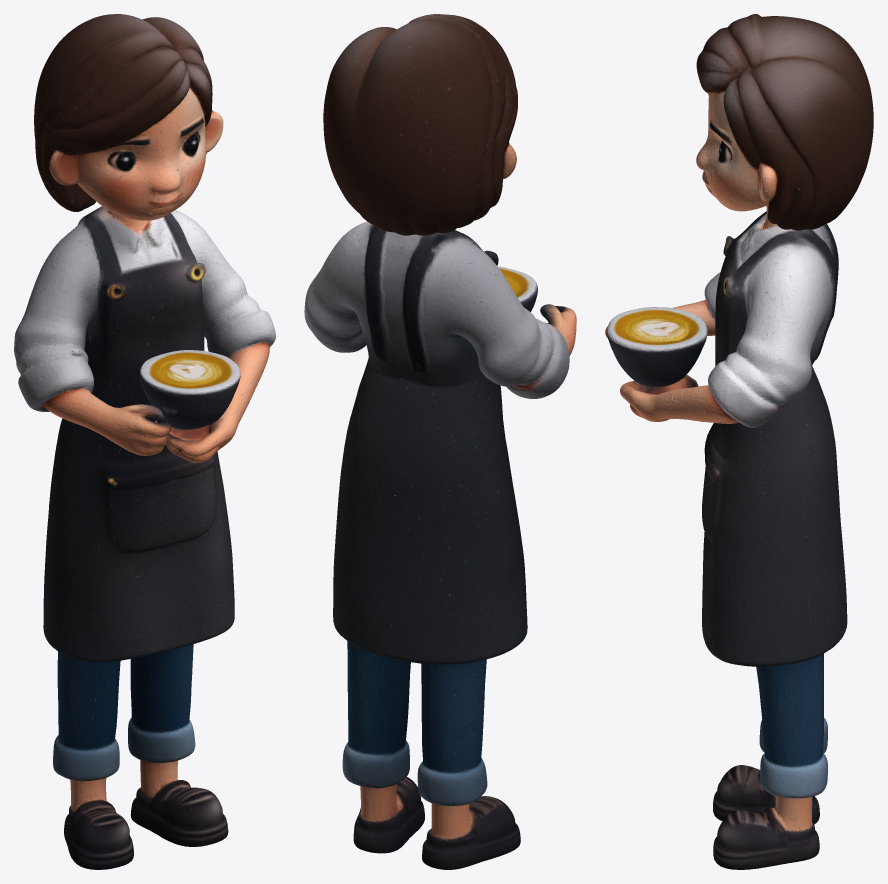
The model's file is fig_cafe_barista_girl_realistic.glb.
3 renders of one model, left to right at view 1: azimuth 30°, elevation 25°; view 2: azimuth 150°, elevation 25°; view 3: azimuth 270°, elevation 25°, orthographic.
Parts seen in each view (by area): view 1: geometry_0; view 2: geometry_0; view 3: geometry_0.
Boxes of the visible parts, bbox=[...] form: geometry_0: bbox=[14, 14, 275, 869]; geometry_0: bbox=[304, 14, 576, 869]; geometry_0: bbox=[605, 14, 873, 869].
Bounding box in the file's own units: 0.3162 × 1 × 0.3008.
Materials: 1 (1 with a texture image).
